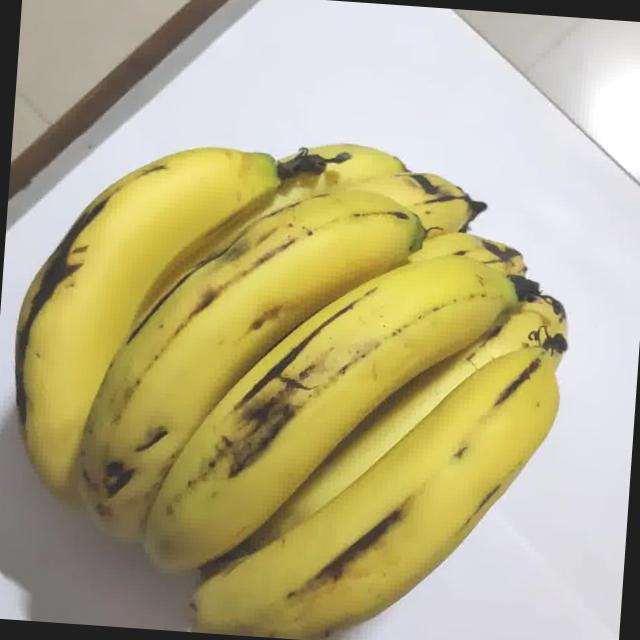banana_pacche: (0, 11, 584, 640)
